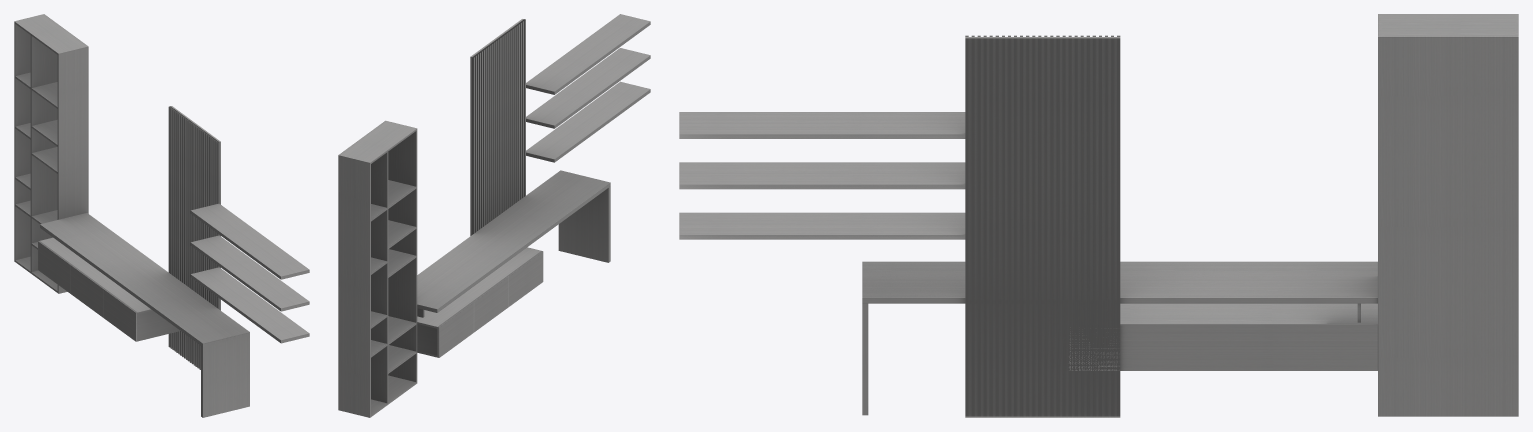
The model's file is OfficeDecoration.fbx.
3 views of the same model, side by side, from view 1: azimuth 30°, elevation 25°; view 2: azimuth 150°, elevation 25°; view 3: azimuth 270°, elevation 25° (orthographic). The views are drawn at different scales.
Parts seen in each view (by area): view 1: OfficeDecoration; view 2: OfficeDecoration; view 3: OfficeDecoration.
Part boxes in pixels (left/top/right/bottom): OfficeDecoration: left=14, top=14, right=309, bottom=417; OfficeDecoration: left=338, top=14, right=650, bottom=417; OfficeDecoration: left=679, top=14, right=1518, bottom=417.
Size of the model in its own units: 59.2 by 260 by 520.
